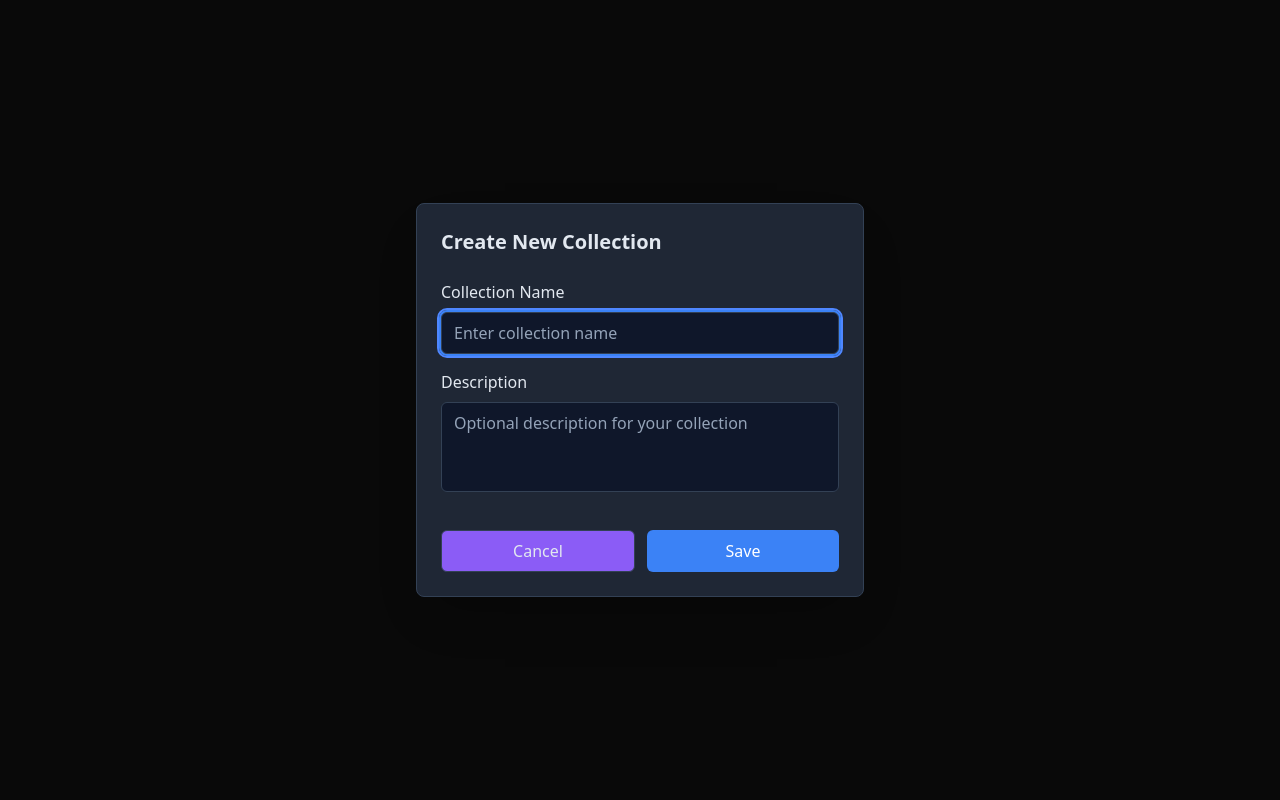
CreateCollectionModal › shows error feedback if creation fails
In the field labelled "Collection Name": (640, 333) x1=441 y1=312 x2=839 y2=354, type "Gifts this year"
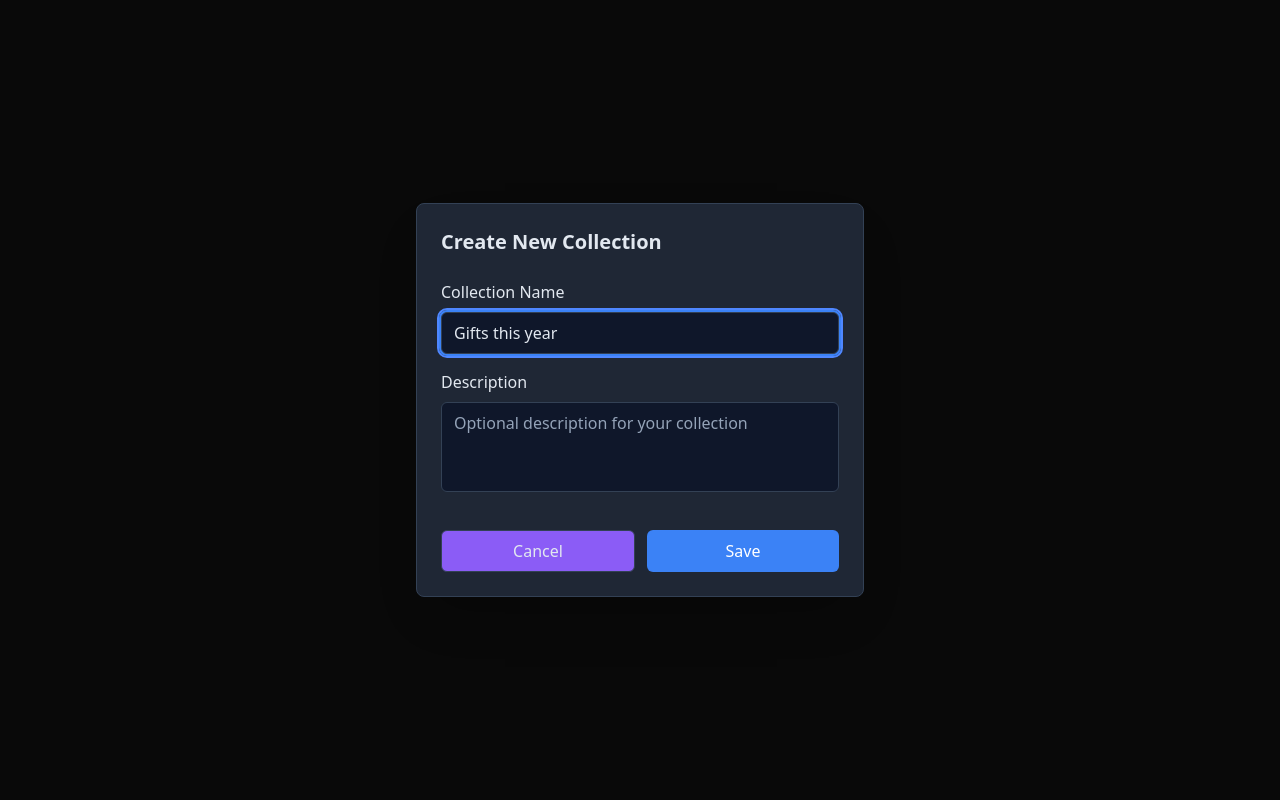
In the text box labelled "Description": (640, 447) x1=441 y1=402 x2=839 y2=492, type "Games I have gathered to gift out this year."
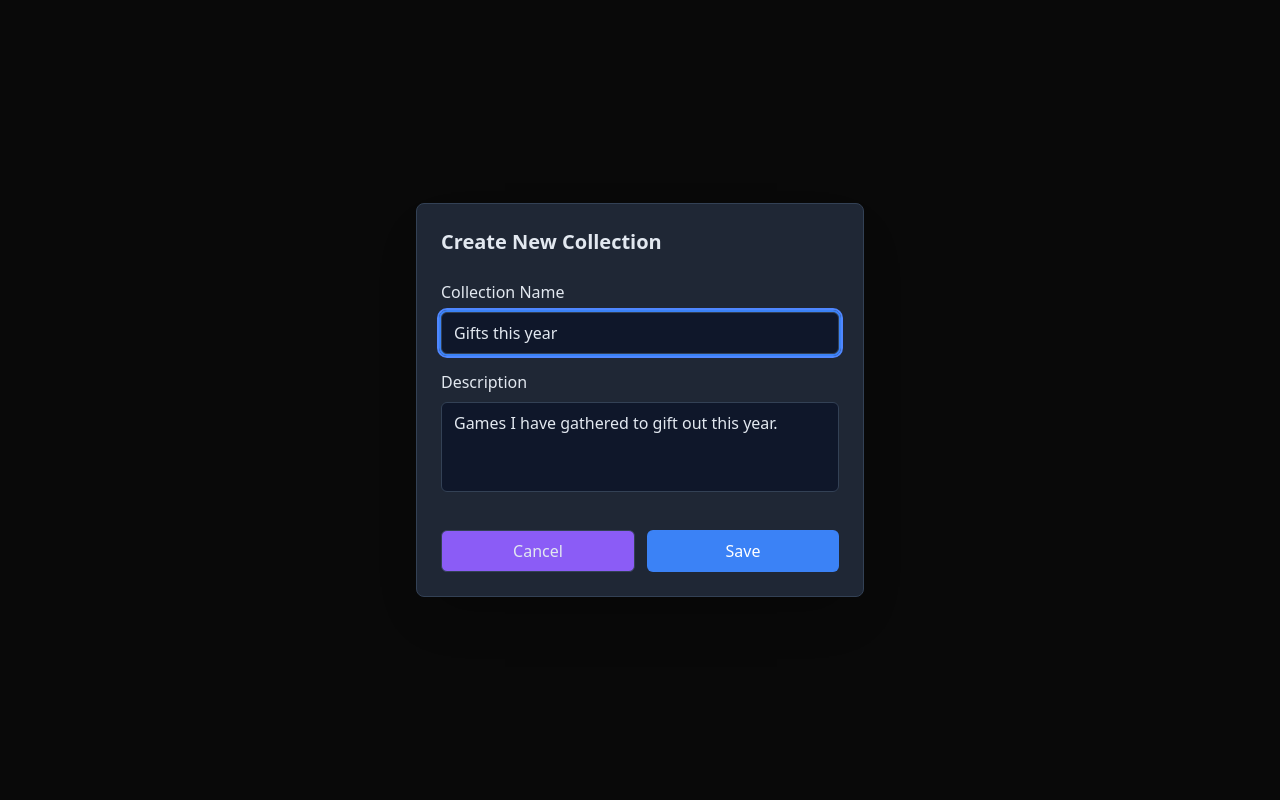
Click the button "Save": (743, 551) x1=647 y1=530 x2=839 y2=572
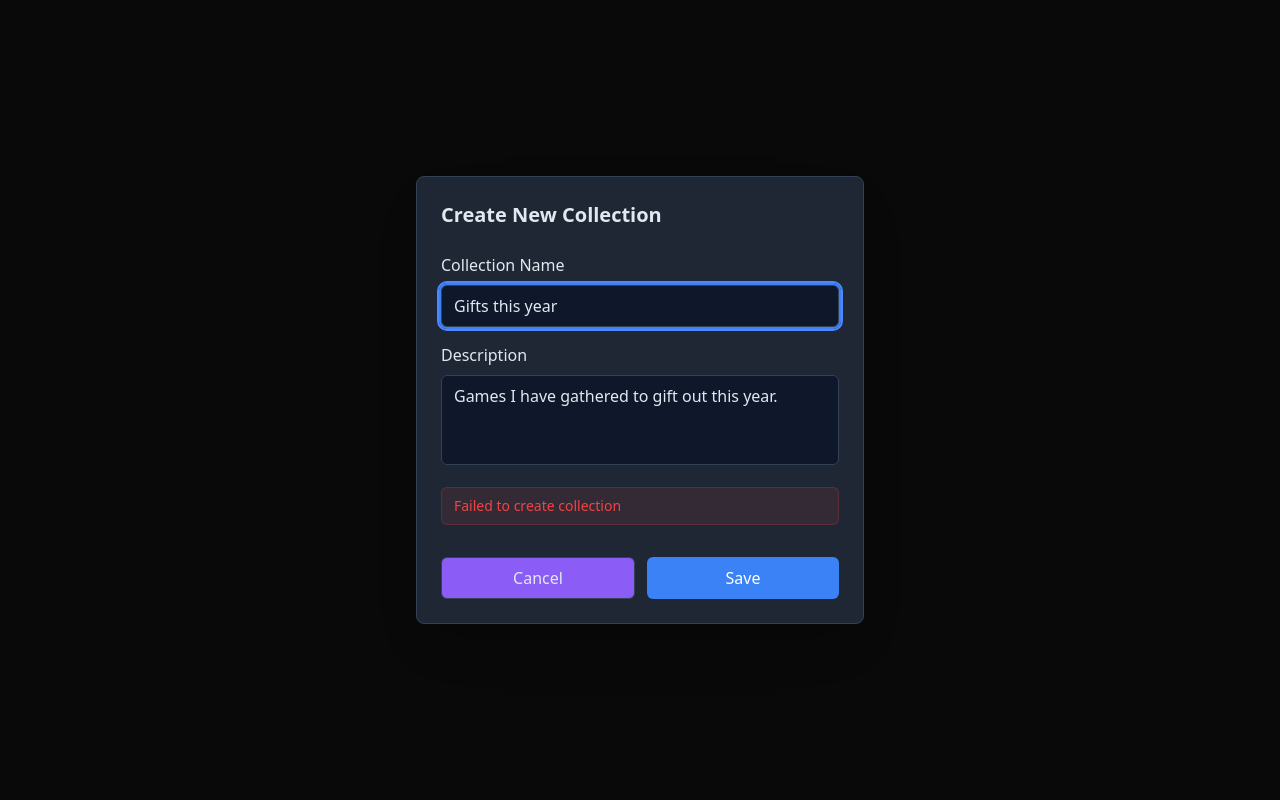
Now the text "Failed to create collection" is shown, box x1=441 y1=487 x2=839 y2=525
